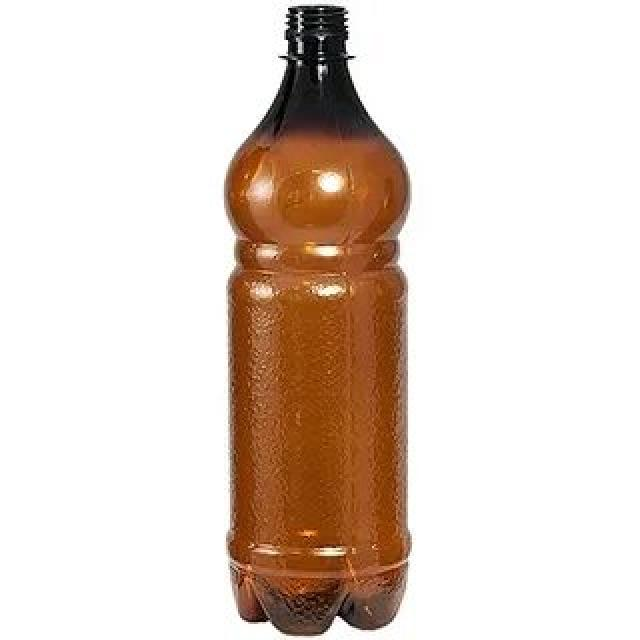brown: (222, 7, 408, 635)
